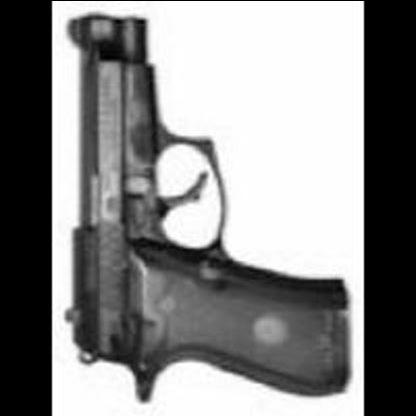weapon: (58, 6, 355, 398)
